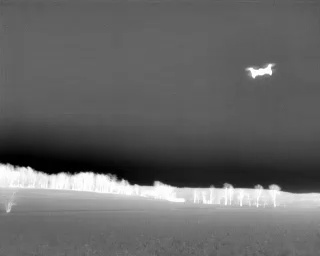DRONE: (242, 59, 279, 84)
